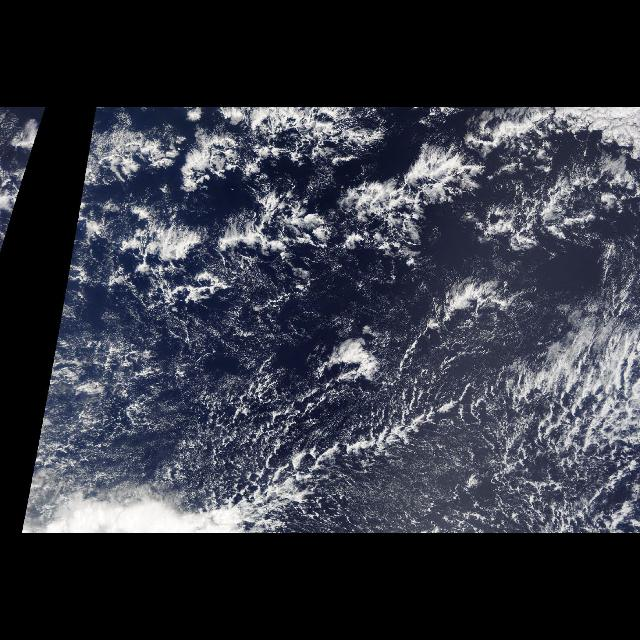Fish: (85, 110, 501, 276), (193, 428, 551, 512)
Flower: (101, 116, 624, 340)
Gravel: (68, 308, 640, 534)
Sugar: (50, 282, 298, 440)
